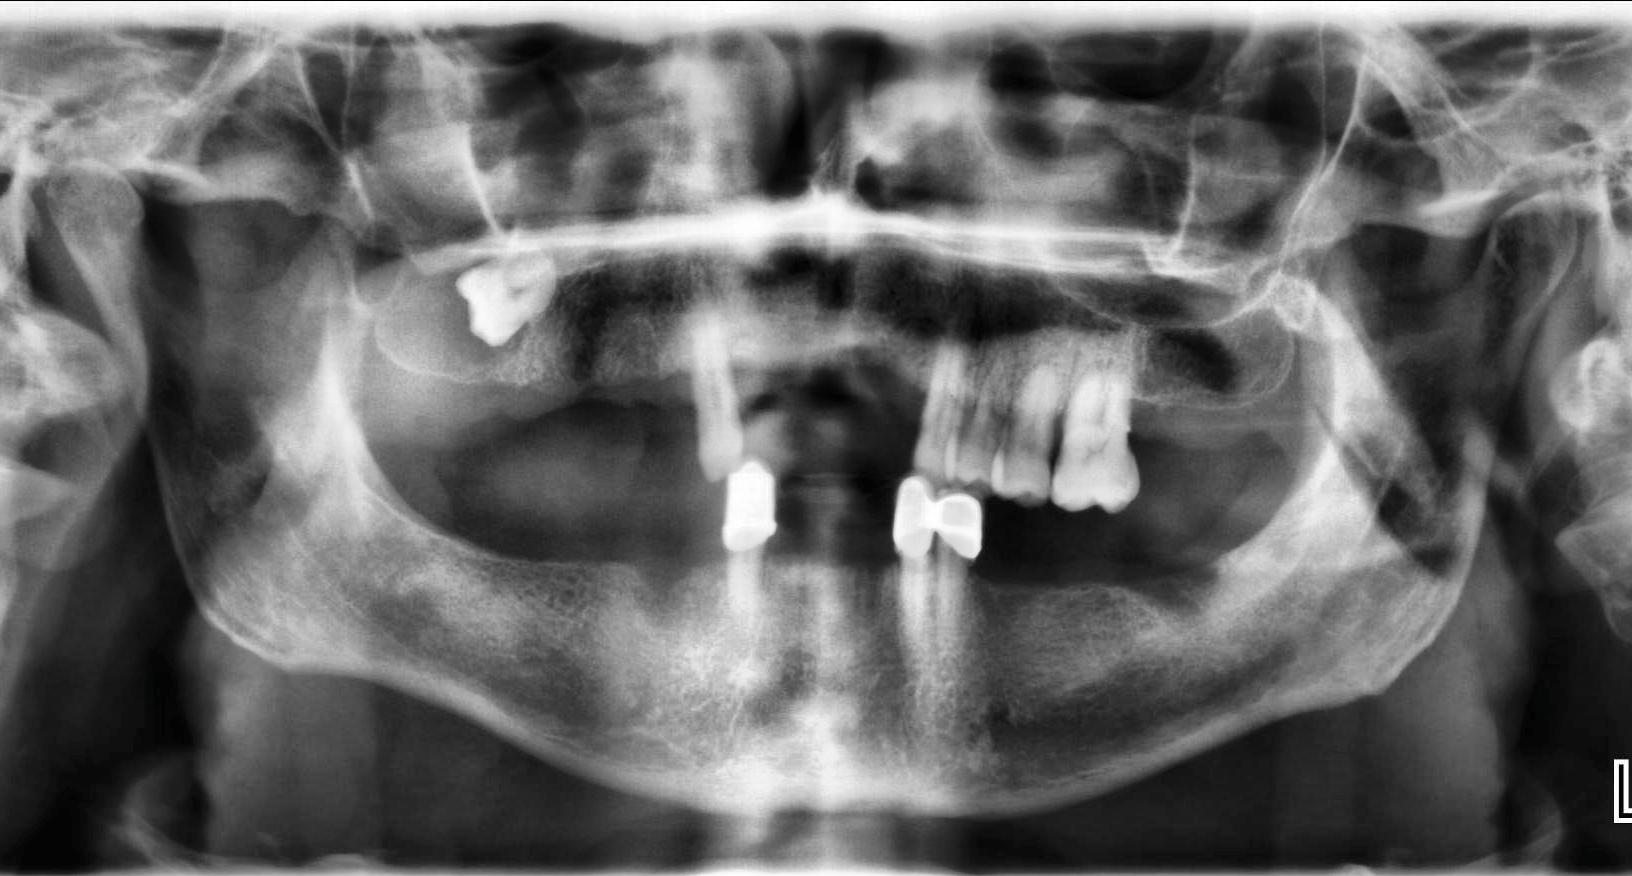dentigeroz: (374, 247, 529, 379)
enflamatuar: (474, 409, 474, 411)
